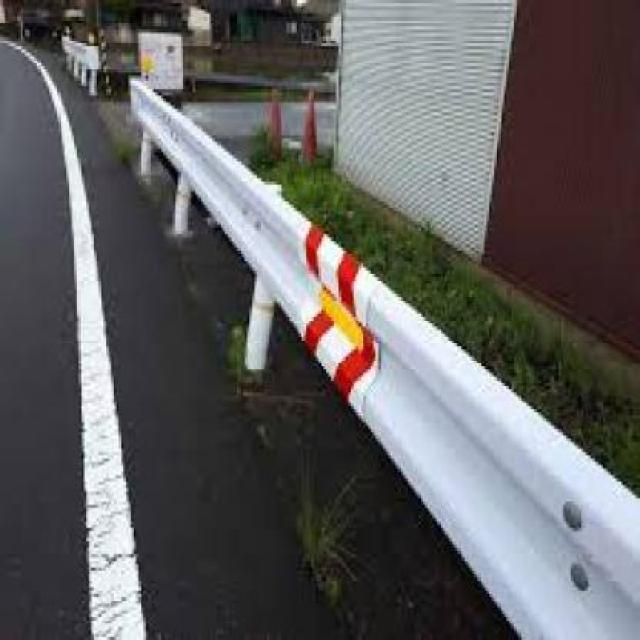Guard rail: (127, 66, 640, 640), (59, 20, 102, 100)
